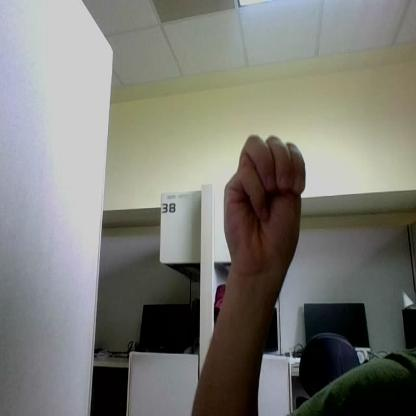M: (224, 134, 306, 267)
